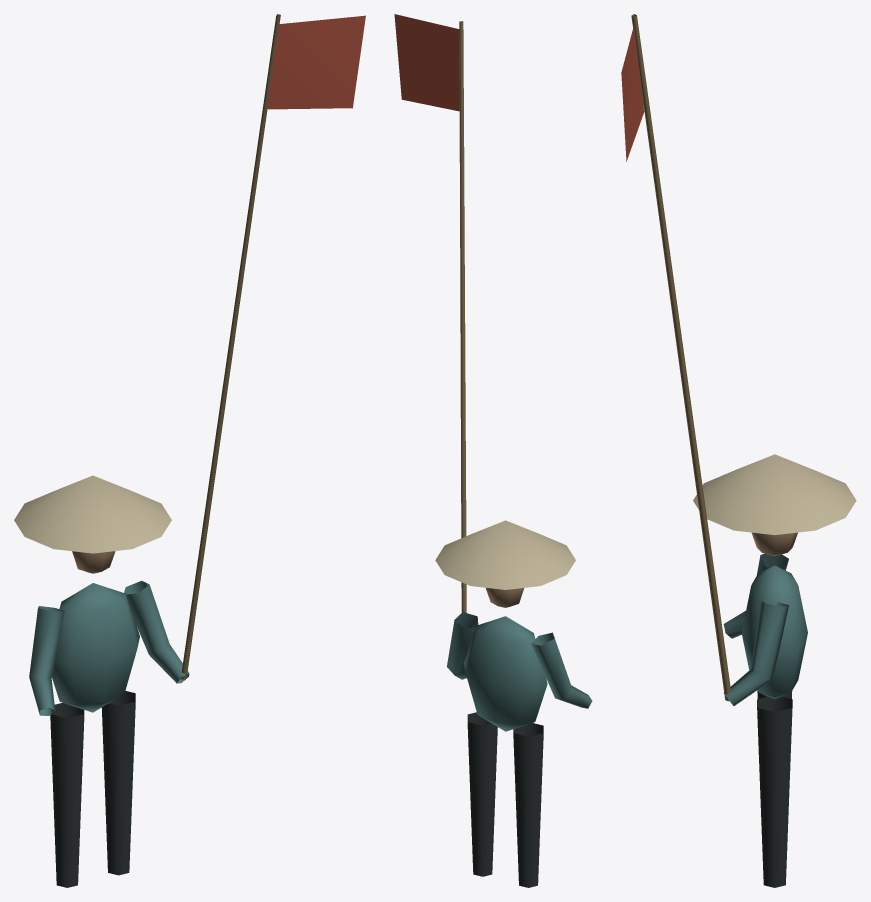
The model's file is keeper-0.glb.
3 views of the same model, side by side, from view 1: azimuth 30°, elevation 25°; view 2: azimuth 150°, elevation 25°; view 3: azimuth 270°, elevation 25° (orthographic). The views are drawn at different scales.
Parts seen in each view (by area): view 1: keeper; view 2: keeper; view 3: keeper.
Part boxes in pixels (left/top/right/bottom): keeper: left=14, top=14, right=365, bottom=887; keeper: left=394, top=14, right=592, bottom=887; keeper: left=621, top=14, right=856, bottom=887.
Bounding box in the file's own units: 1.28 × 3.94 × 0.92.
